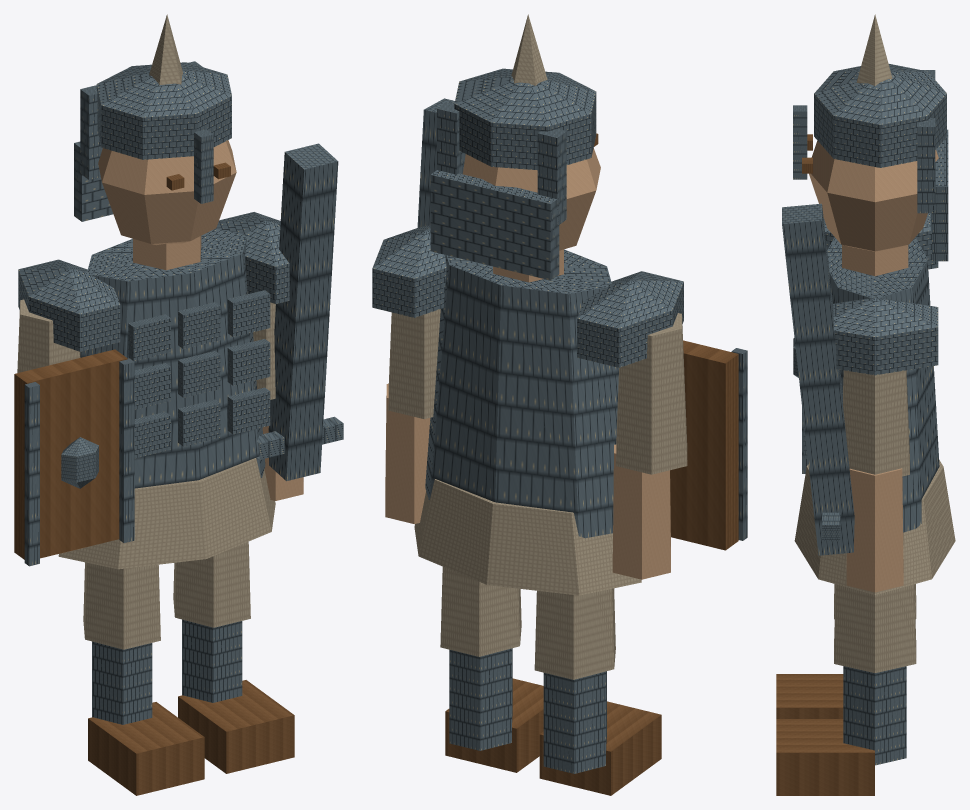
File: unit-SWORD-lod0.glb
3 views of the same model, side by side, from view 1: azimuth 30°, elevation 25°; view 2: azimuth 150°, elevation 25°; view 3: azimuth 270°, elevation 25° (orthographic). The views are drawn at different scales.
Bounding box in the file's own units: 0.209 × 0.448 × 0.098.
1 material, 1 textured.
